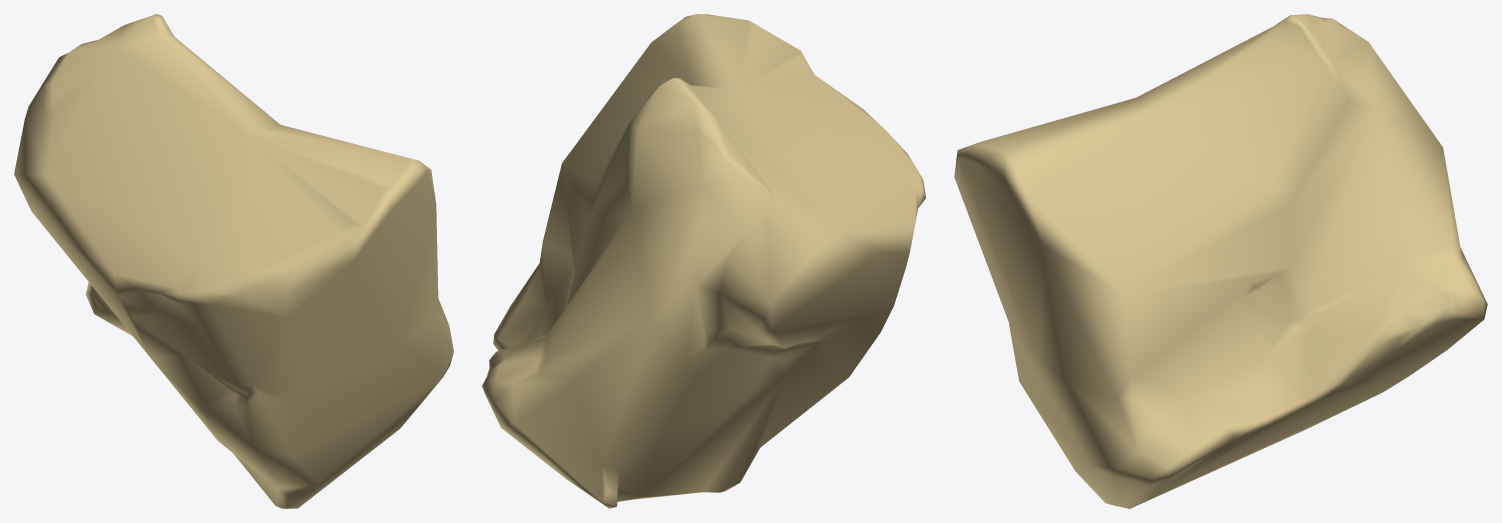
3 renders of one model, left to right at view 1: azimuth 30°, elevation 25°; view 2: azimuth 150°, elevation 25°; view 3: azimuth 270°, elevation 25°, orthographic. The views are drawn at different scales.
Visible parts, largest first — view 1: 左侧中间楔骨; view 2: 左侧中间楔骨; view 3: 左侧中间楔骨.
Boxes of the visible parts, left/top/right/bottom form: 左侧中间楔骨: left=14, top=14, right=453, bottom=508; 左侧中间楔骨: left=482, top=14, right=925, bottom=508; 左侧中间楔骨: left=954, top=14, right=1487, bottom=508.
Bounding box in the file's own units: 0.0288 × 0.0338 × 0.0354.
